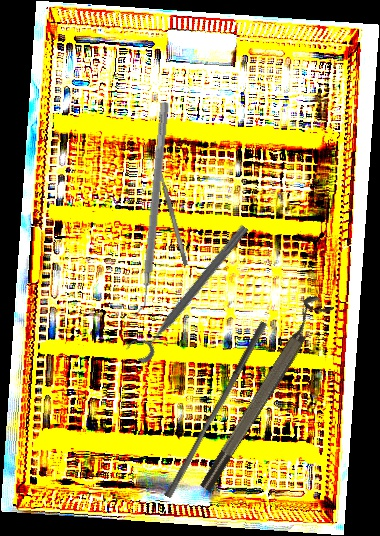Fixation Ring: (188, 292, 335, 494), (123, 215, 253, 366)
Pusher: (163, 317, 268, 502)
Spatula Surgical: (132, 100, 170, 318), (152, 149, 189, 267)
